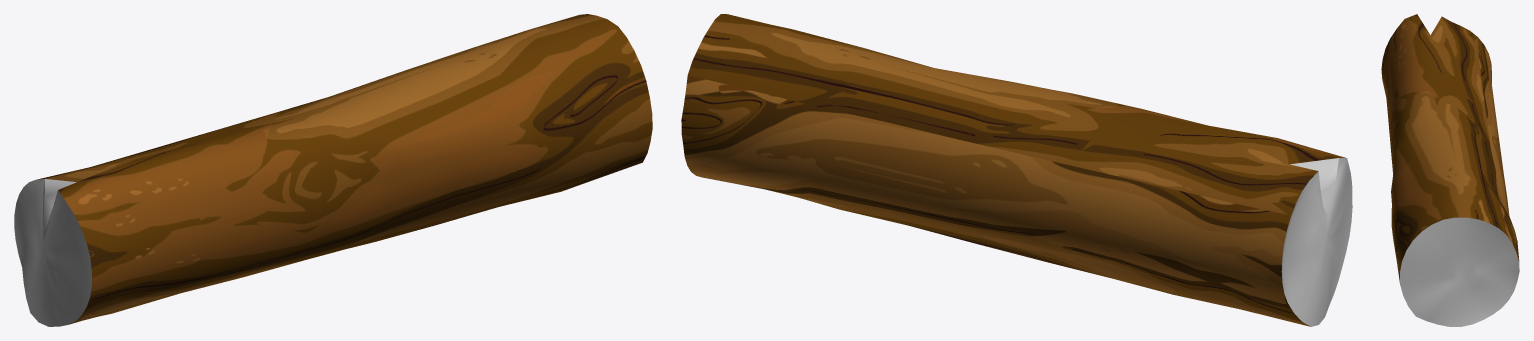
File: Single Tree Log.fbx
3 views of the same model, side by side, from view 1: azimuth 30°, elevation 25°; view 2: azimuth 150°, elevation 25°; view 3: azimuth 270°, elevation 25° (orthographic). The views are drawn at different scales.
Parts seen in each view (by area): view 1: Object_2.001; view 2: Object_2.001; view 3: Object_2.001.
Part boxes in pixels (box(x1,y1,x2,y2)): Object_2.001: box(14, 14, 652, 326); Object_2.001: box(681, 14, 1352, 326); Object_2.001: box(1381, 14, 1519, 326).
Bounding box in the file's own units: 84.9 × 22.85 × 22.89.
